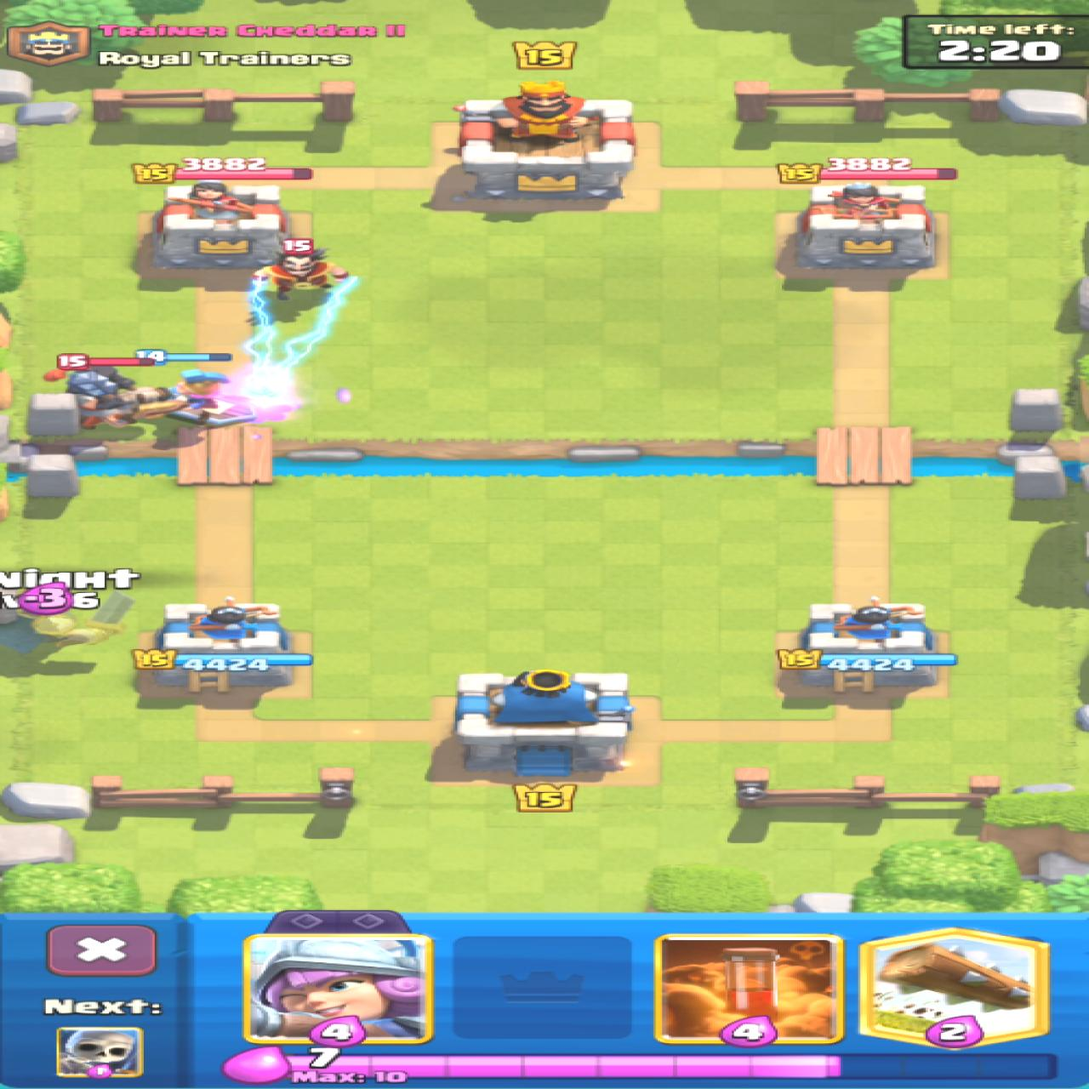Enemy-DarkPrince: (46, 353, 179, 426)
Enemy-ElectroWizard: (253, 240, 344, 299)
Enemy-KingTower: (460, 84, 634, 201)
Enemy-PrincessTower: (791, 183, 934, 278), (152, 181, 301, 268)
